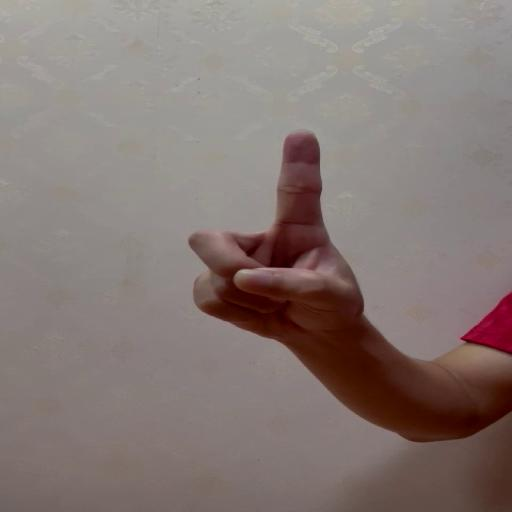point: (186, 129, 342, 345)
